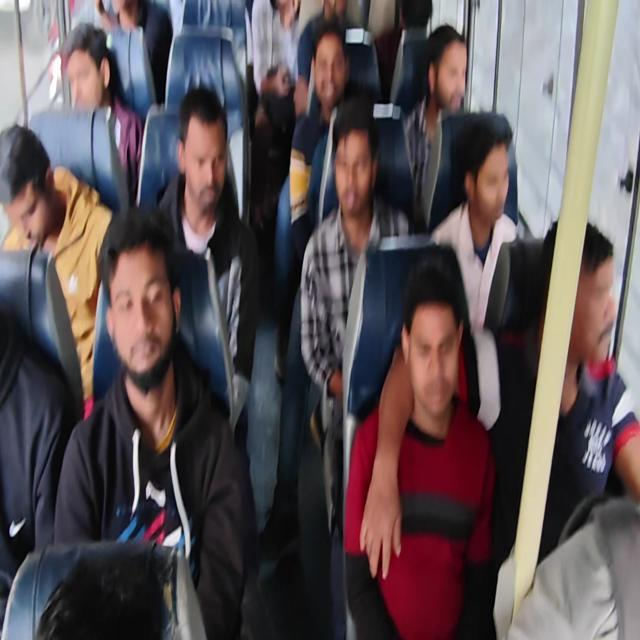person: (392, 258, 466, 426), (43, 556, 177, 640), (550, 224, 622, 377), (104, 220, 175, 375), (0, 133, 65, 242), (458, 125, 520, 235), (172, 99, 229, 206), (61, 36, 113, 130), (424, 30, 474, 123), (331, 125, 378, 221), (310, 38, 348, 114), (383, 6, 436, 43), (96, 0, 141, 26), (316, 0, 350, 19)
